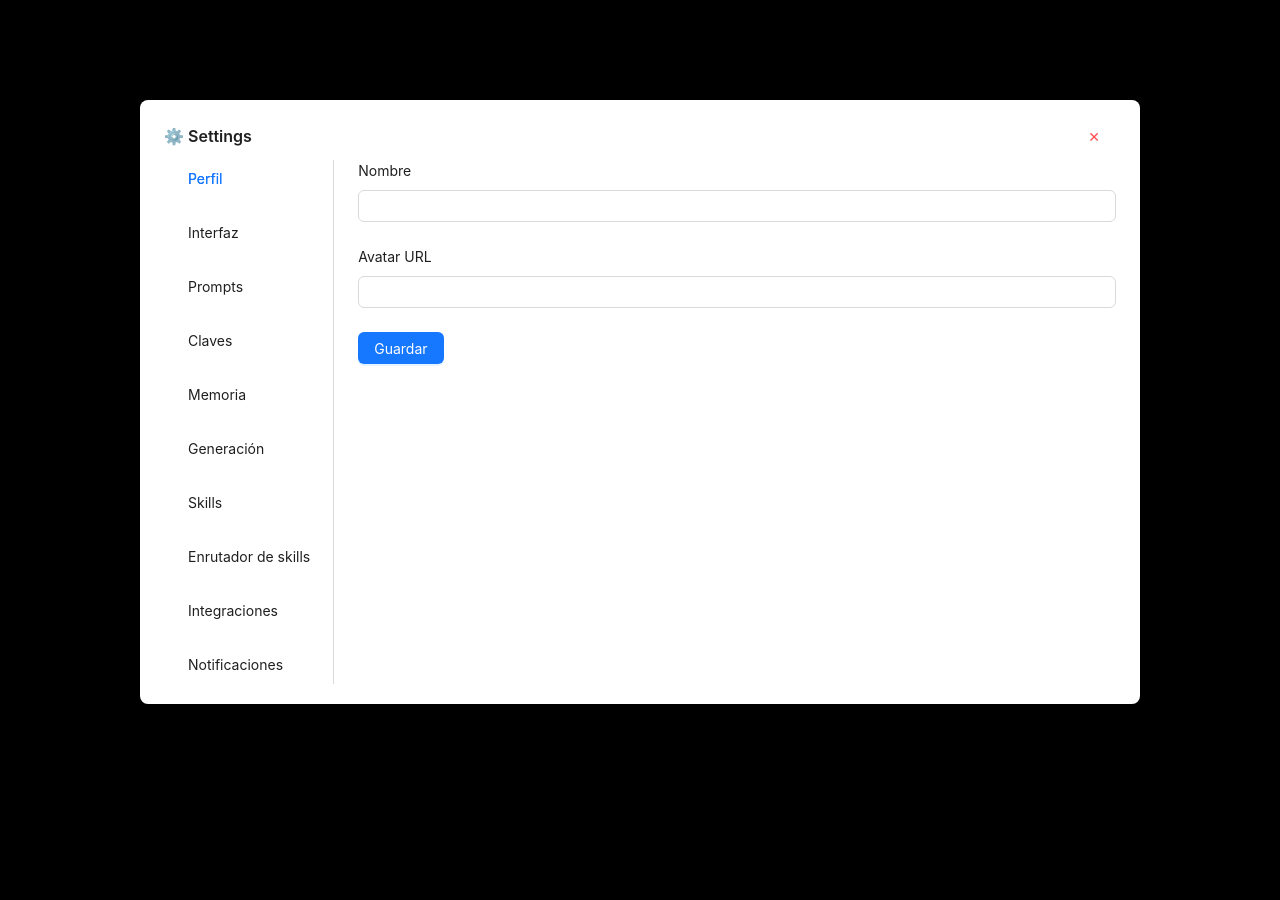
it: SettingsDialog › shows timeline_prompt when opening the Timeline sub-tab
Click the tab "Prompts": coordinates (216, 287) [188,276,243,298]
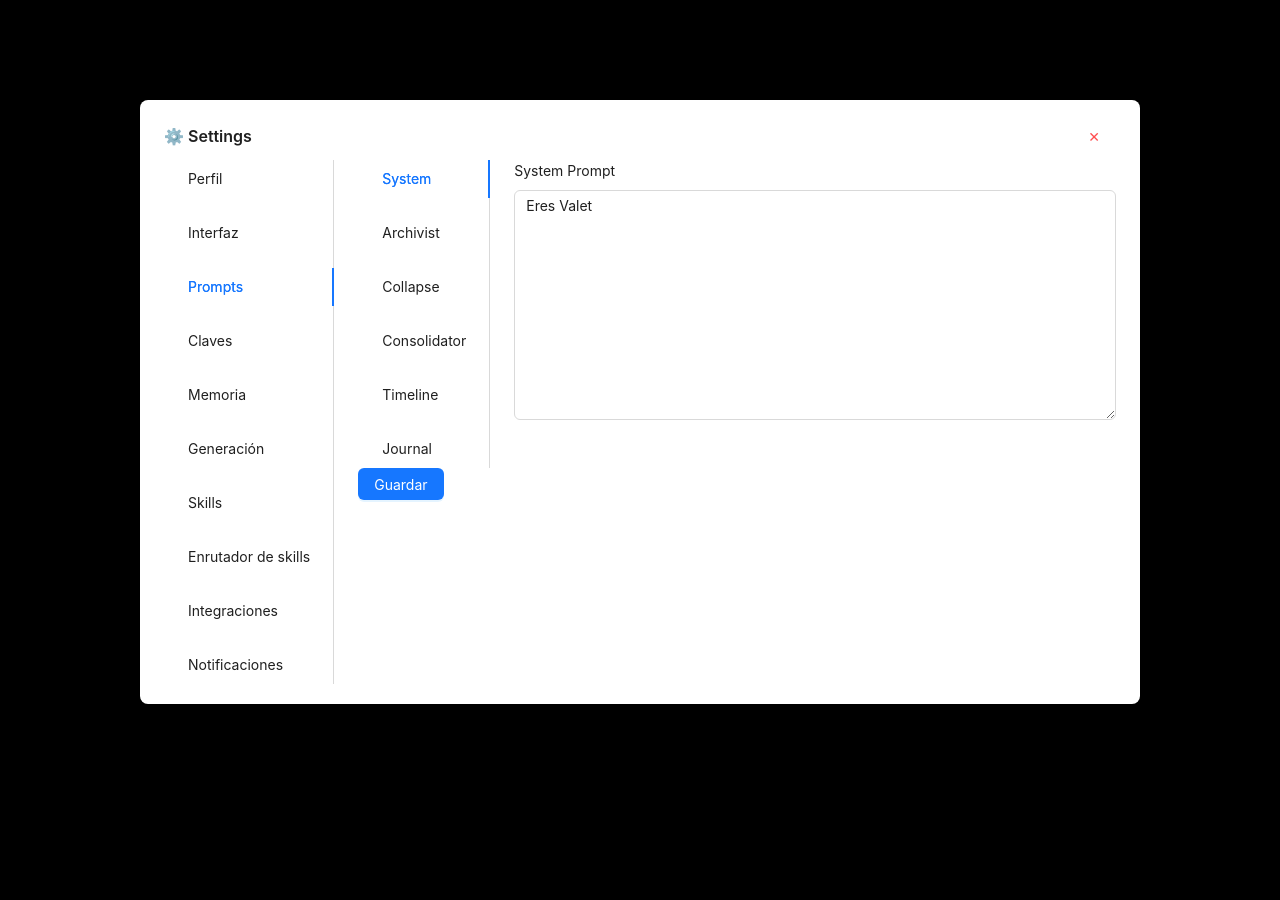
Click the tab "Timeline": coordinates (410, 395) [382,384,438,406]
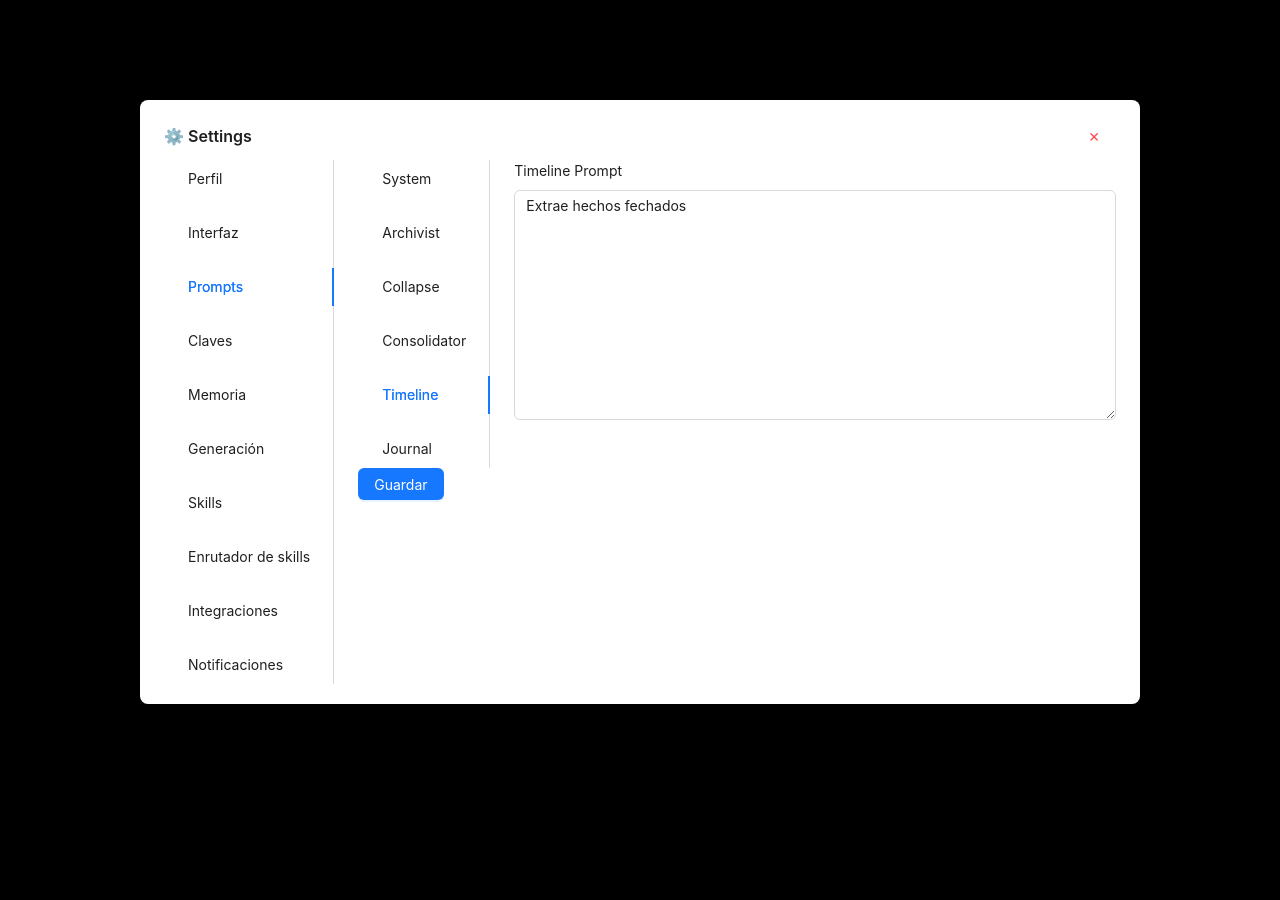
Now the text box labelled "Timeline Prompt" holds "Extrae hechos fechados", box [514,190,1116,420]
